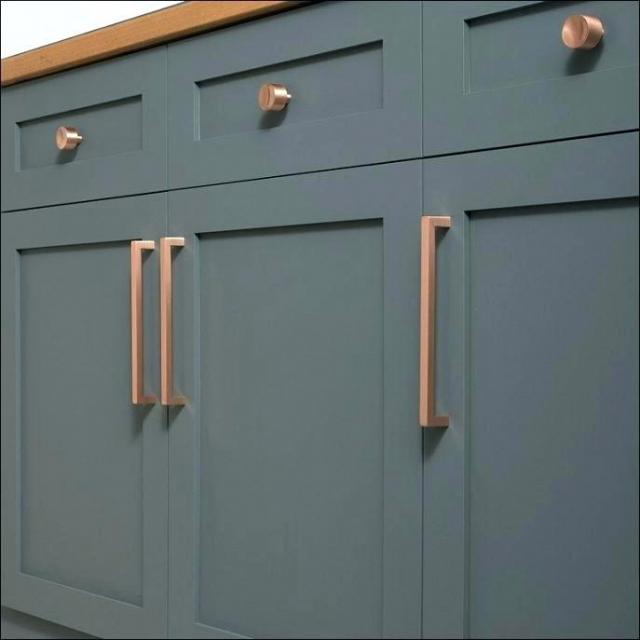Handle: (397, 200, 460, 448), (114, 229, 156, 421), (152, 227, 182, 436), (41, 114, 110, 190), (548, 13, 609, 89), (252, 78, 311, 149)
beside table: (5, 52, 640, 640)
